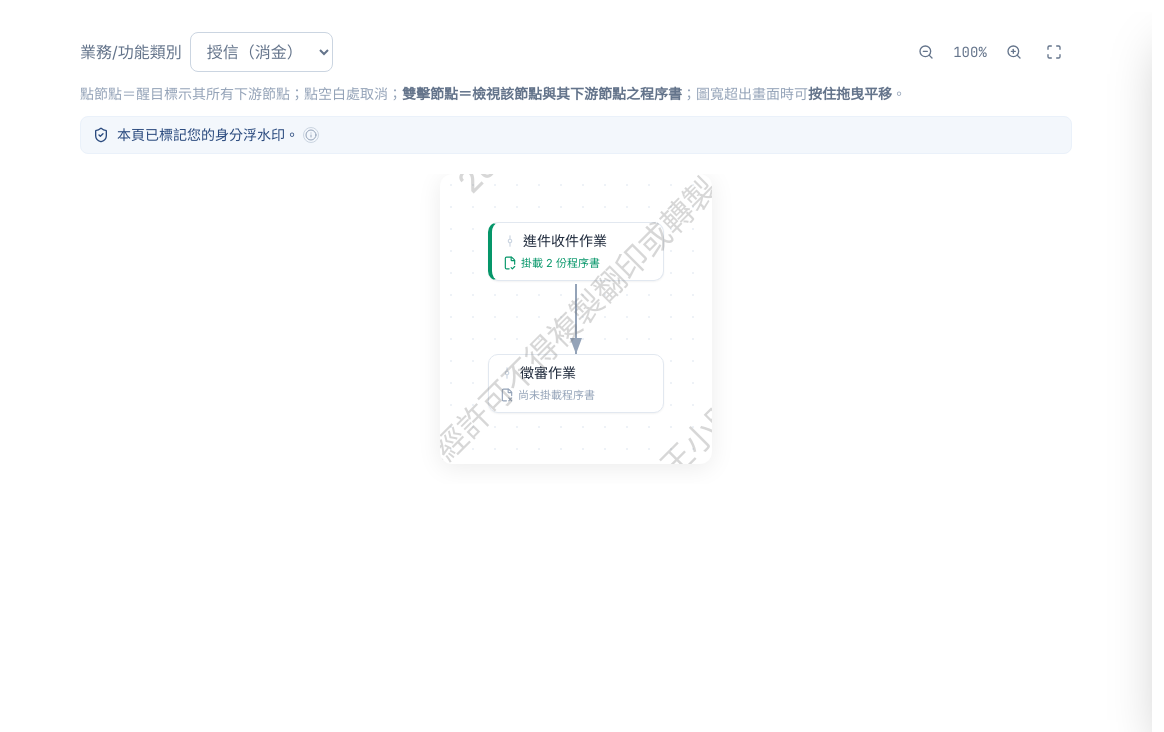
Test case: PublicCategoryTreePage — F043 己：前台樹狀圖瀏覽模式 › AC-B27② 整個子樹無可見文件 → 逐字「此節點與其下游節點皆沒有您可檢視的程序書」
Double-click the button with test id "tree-node-p4" at {"x": 576, "y": 383}, box [488,354,664,412]
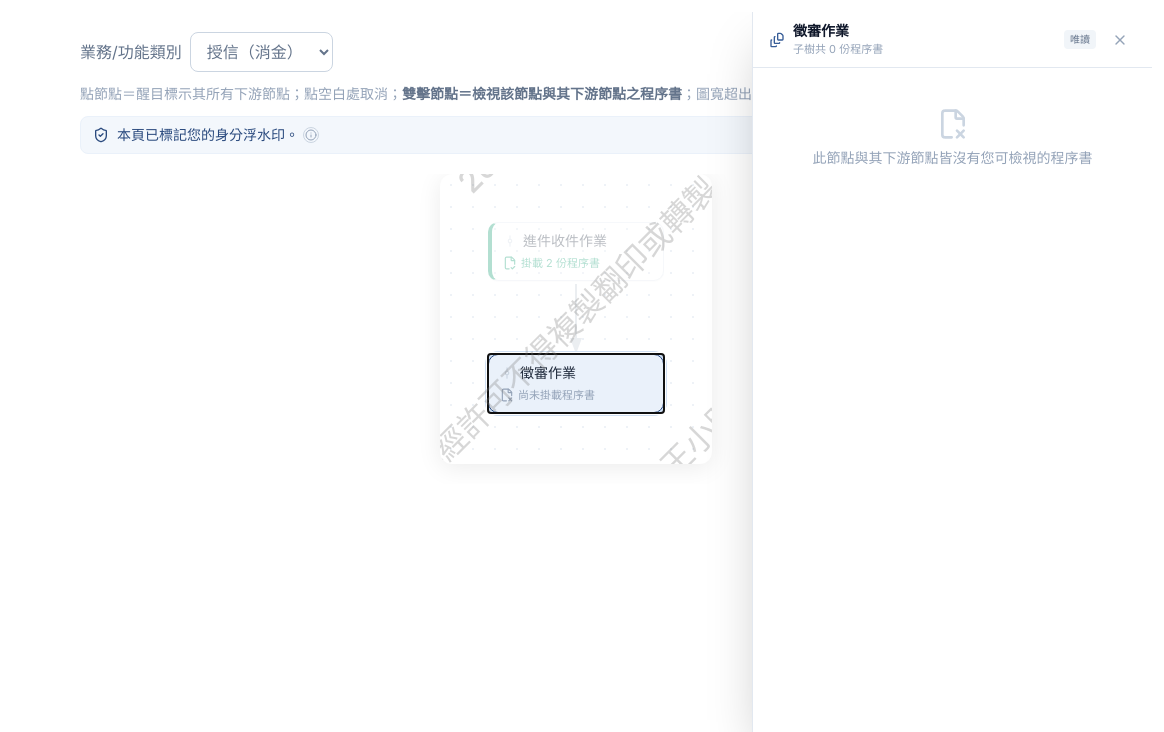
Now the text "此節點與其下游節點皆沒有您可檢視的程序書" is shown, box [812,108,1092,166]
